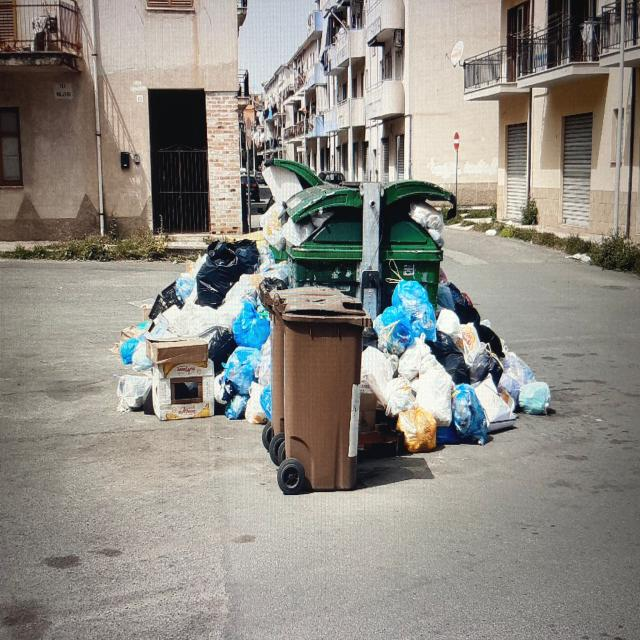garbage: (80, 179, 566, 498)
